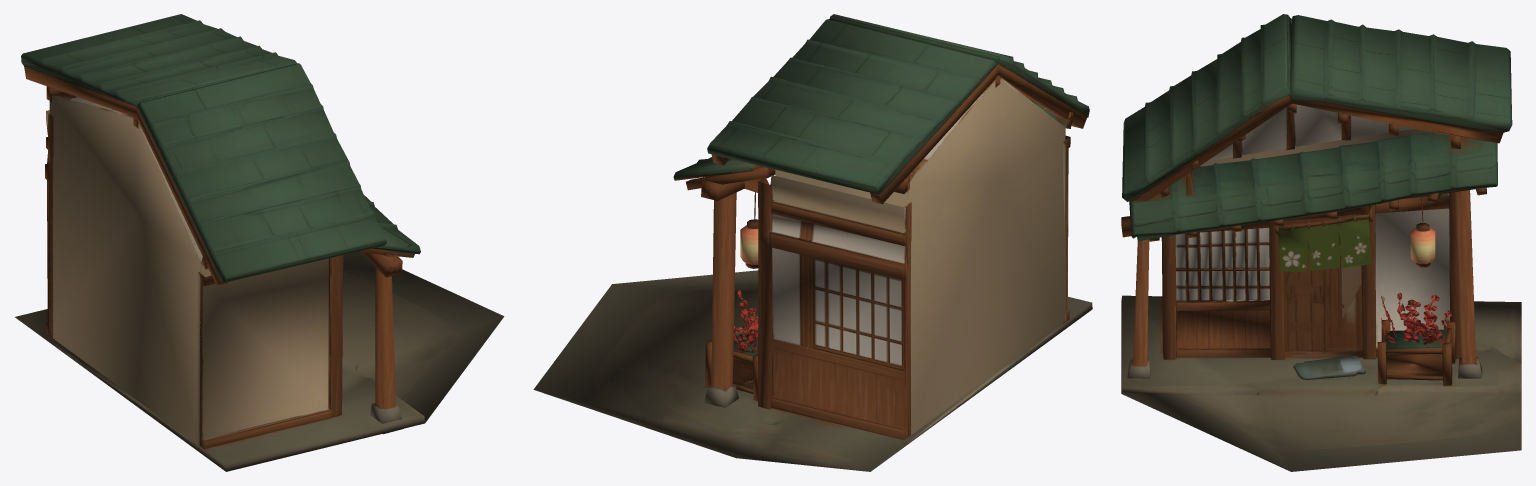
The model's file is tea_house.glb.
3 renders of one model, left to right at view 1: azimuth 30°, elevation 25°; view 2: azimuth 150°, elevation 25°; view 3: azimuth 270°, elevation 25°, orthographic. The views are drawn at different scales.
Visible parts, largest first — view 1: tripo_node_691f7eb7-9ce5-4f1e-b8b1-0e99a41069a1; view 2: tripo_node_691f7eb7-9ce5-4f1e-b8b1-0e99a41069a1; view 3: tripo_node_691f7eb7-9ce5-4f1e-b8b1-0e99a41069a1.
Part boxes in pixels (bbox=[...]): tripo_node_691f7eb7-9ce5-4f1e-b8b1-0e99a41069a1: bbox=[15, 14, 504, 471]; tripo_node_691f7eb7-9ce5-4f1e-b8b1-0e99a41069a1: bbox=[533, 14, 1092, 471]; tripo_node_691f7eb7-9ce5-4f1e-b8b1-0e99a41069a1: bbox=[1121, 14, 1521, 471].
Size of the model in its own units: 0.998 by 0.8379 by 0.9941.
1 material, 1 textured.
